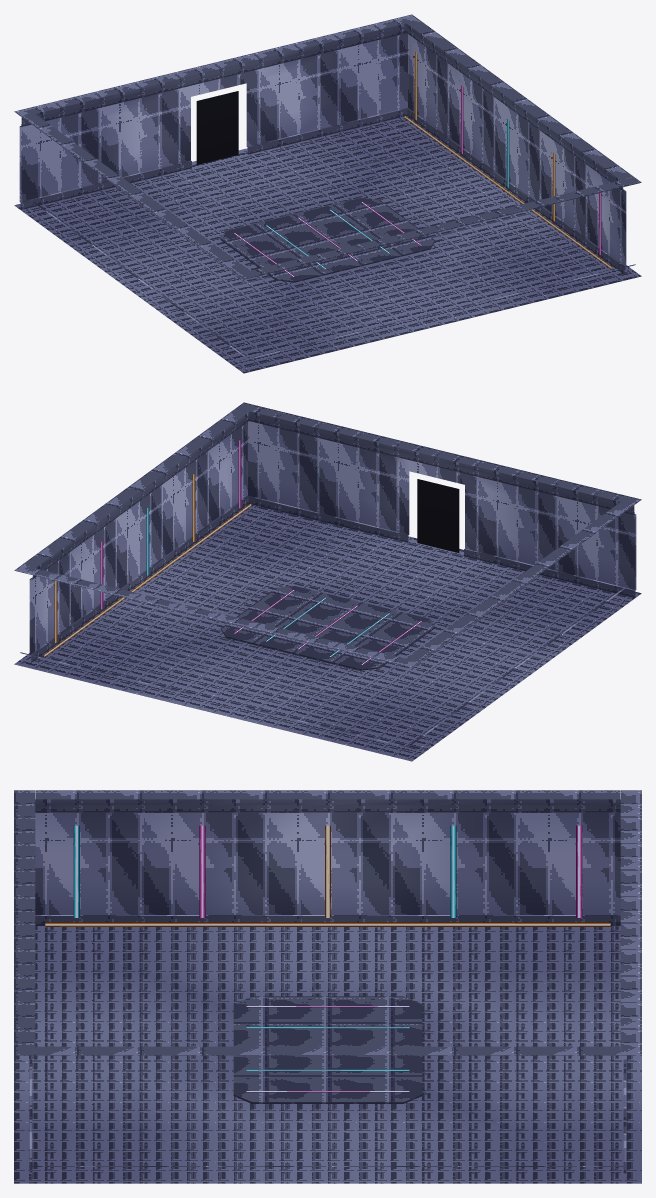
File: cyroom.club__arena.glb
3 renders of one model, top to bottom at view 1: azimuth 30°, elevation 25°; view 2: azimuth 150°, elevation 25°; view 3: azimuth 270°, elevation 25°, orthographic. The views are drawn at different scales.
Parts seen in each view (by area): view 1: kit_shell_floor, kit_shell_walls, kit_trim, kit_card_lights; view 2: kit_shell_floor, kit_shell_walls, kit_trim, kit_card_lights; view 3: kit_shell_floor, kit_shell_walls, kit_trim, kit_card_lights.
Part boxes in pixels (x1=…): kit_shell_floor: x1=14, y1=116, x2=641, y2=373; kit_shell_walls: x1=14, y1=14, x2=641, y2=361; kit_trim: x1=220, y1=198, x2=435, y2=282; kit_card_lights: x1=196, y1=52, x2=611, y2=276; kit_shell_floor: x1=14, y1=504, x2=641, y2=761; kit_shell_walls: x1=14, y1=402, x2=641, y2=749; kit_trim: x1=220, y1=586, x2=435, y2=670; kit_card_lights: x1=44, y1=440, x2=459, y2=664; kit_shell_floor: x1=14, y1=926, x2=641, y2=1183; kit_shell_walls: x1=14, y1=790, x2=641, y2=1173; kit_trim: x1=233, y1=996, x2=422, y2=1103; kit_card_lights: x1=45, y1=825, x2=610, y2=1092.
Bounding box in the file's own units: 20 × 4.54 × 20.
Materials: 6 (6 with a texture image).
